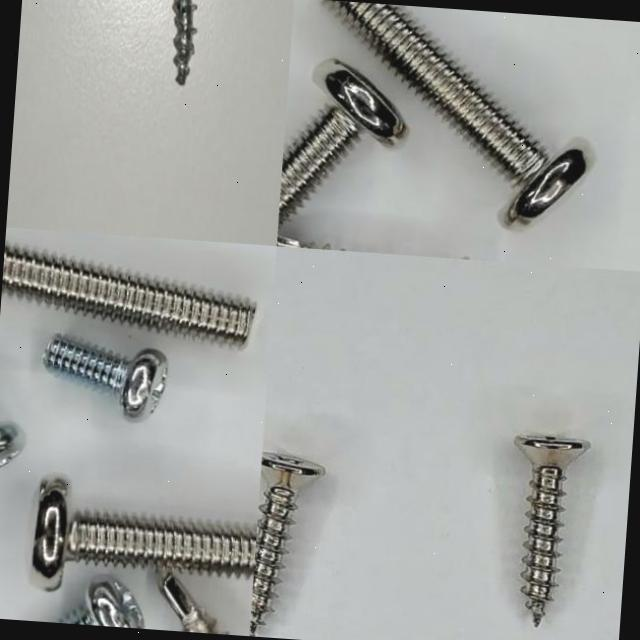Screw: (325, 0, 586, 222), (1, 242, 256, 346), (31, 478, 257, 590), (278, 59, 405, 226), (513, 434, 590, 627), (249, 451, 325, 636), (43, 334, 167, 420), (65, 581, 142, 628), (161, 574, 217, 634), (172, 0, 197, 84), (0, 423, 23, 467)
